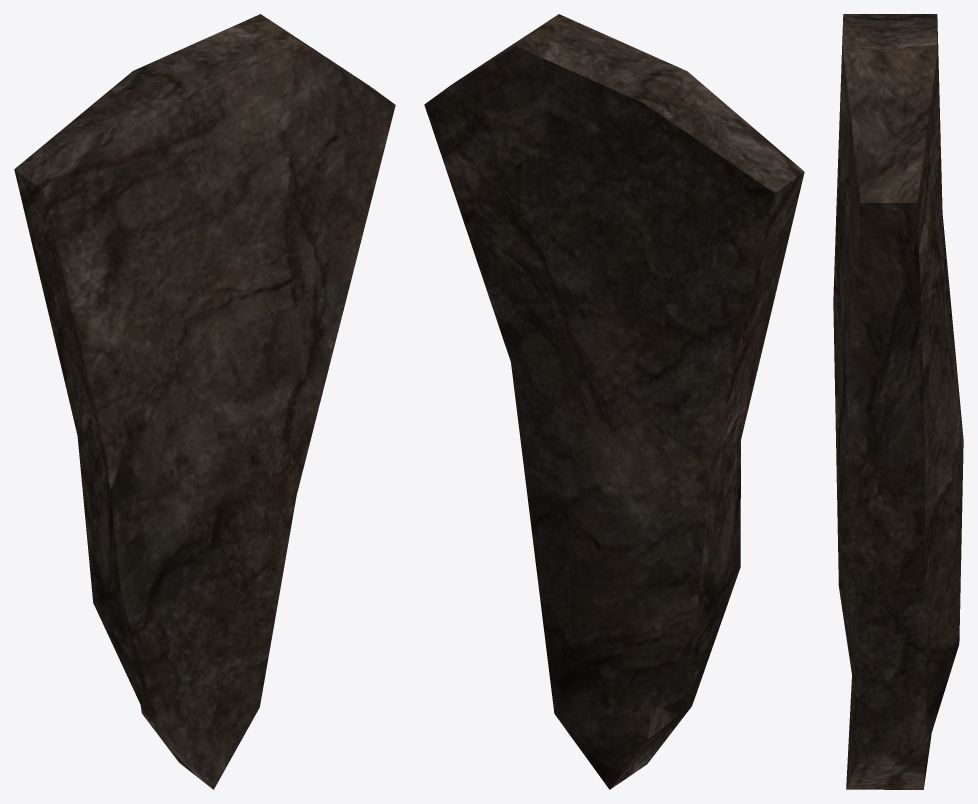
The picture shows the model from 3 angles, left to right: view 1: azimuth 30°, elevation 25°; view 2: azimuth 150°, elevation 25°; view 3: azimuth 270°, elevation 25°; orthographic projection. The views are drawn at different scales.
Visible parts, largest first — view 1: model_Object60; view 2: model_Object60; view 3: model_Object60.
Part boxes in pixels (bbox=[...]): model_Object60: bbox=[14, 14, 395, 789]; model_Object60: bbox=[424, 14, 804, 789]; model_Object60: bbox=[833, 14, 963, 789].
Bounding box in the file's own units: 2.54 × 4.98 × 0.7514.
1 material, 1 textured.
